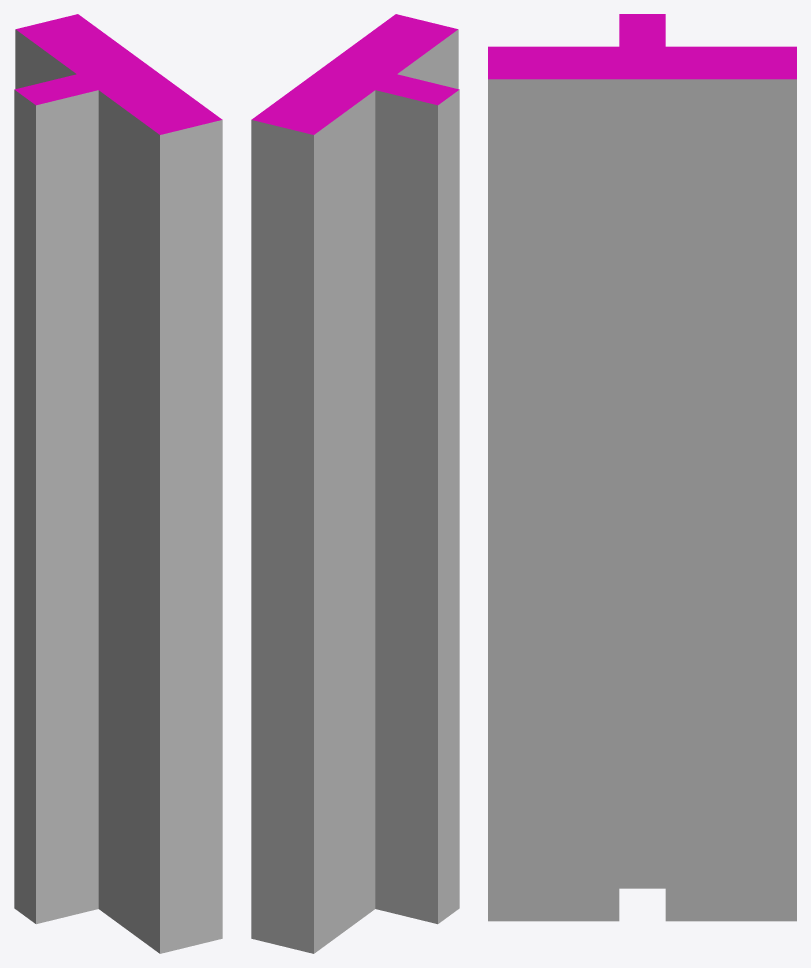
The model's file is 03beginnerfloor 1.fbx.
3 views of the same model, side by side, from view 1: azimuth 30°, elevation 25°; view 2: azimuth 150°, elevation 25°; view 3: azimuth 270°, elevation 25° (orthographic). The views are drawn at different scales.
Parts seen in each view (by area): view 1: Cube.023; view 2: Cube.023; view 3: Cube.023.
Part boxes in pixels (x1,y1,x2,y2): Cube.023: (14,14,222,953); Cube.023: (251,14,459,953); Cube.023: (488,14,796,921).
Size of the model in its own units: 20 by 125 by 40.
